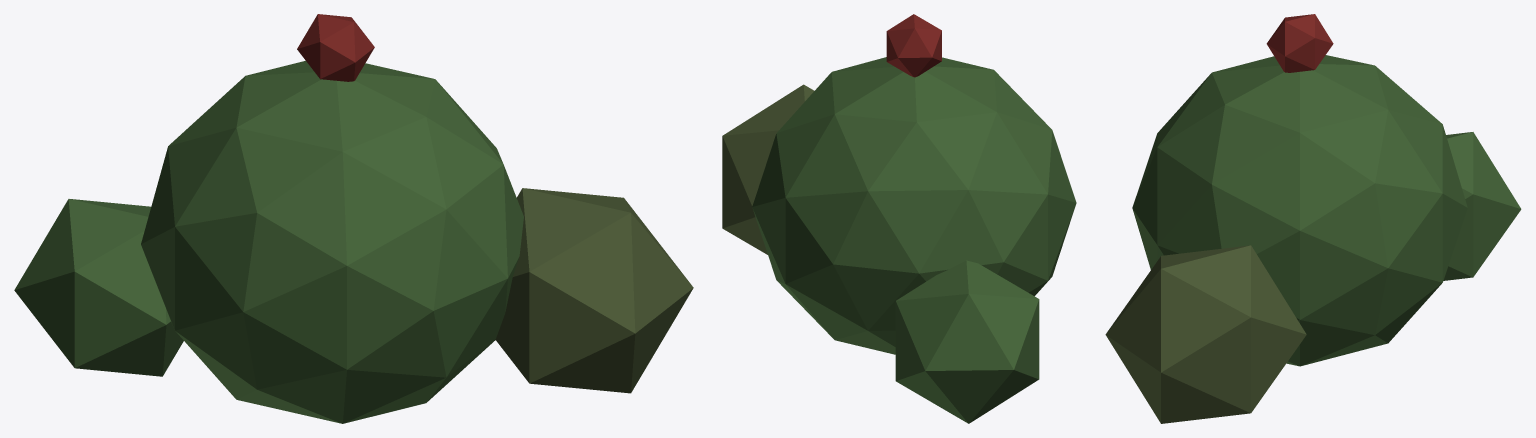
The model's file is SM_Cactus_B.glb.
3 views of the same model, side by side, from view 1: azimuth 30°, elevation 25°; view 2: azimuth 150°, elevation 25°; view 3: azimuth 270°, elevation 25° (orthographic). The views are drawn at different scales.
Visible parts, largest first — view 1: SM_Cactus_B; view 2: SM_Cactus_B; view 3: SM_Cactus_B.
Boxes of the visible parts, box(x1,y1,x2,y2) form: SM_Cactus_B: box(14, 14, 693, 423); SM_Cactus_B: box(722, 14, 1076, 423); SM_Cactus_B: box(1105, 14, 1521, 423).
Bounding box in the file's own units: 1.47 × 1.1 × 1.24.
Materials: 1 (1 with a texture image).
